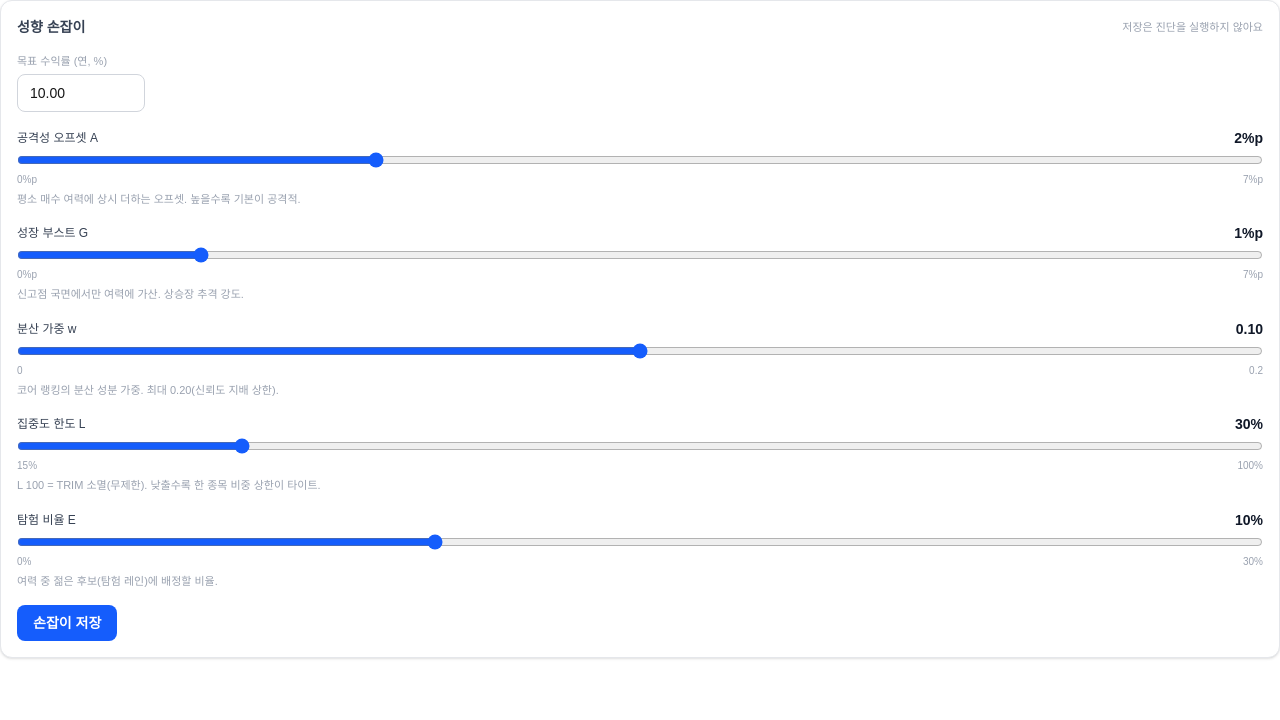
Test: KnobsPanel 저장 플로우 › 저장 실패 시 인라인 에러 표시(성공 피드백 없음)
Click the button with test id "knobs-save-button". click: click(67, 623)
box: [17,605,117,641]
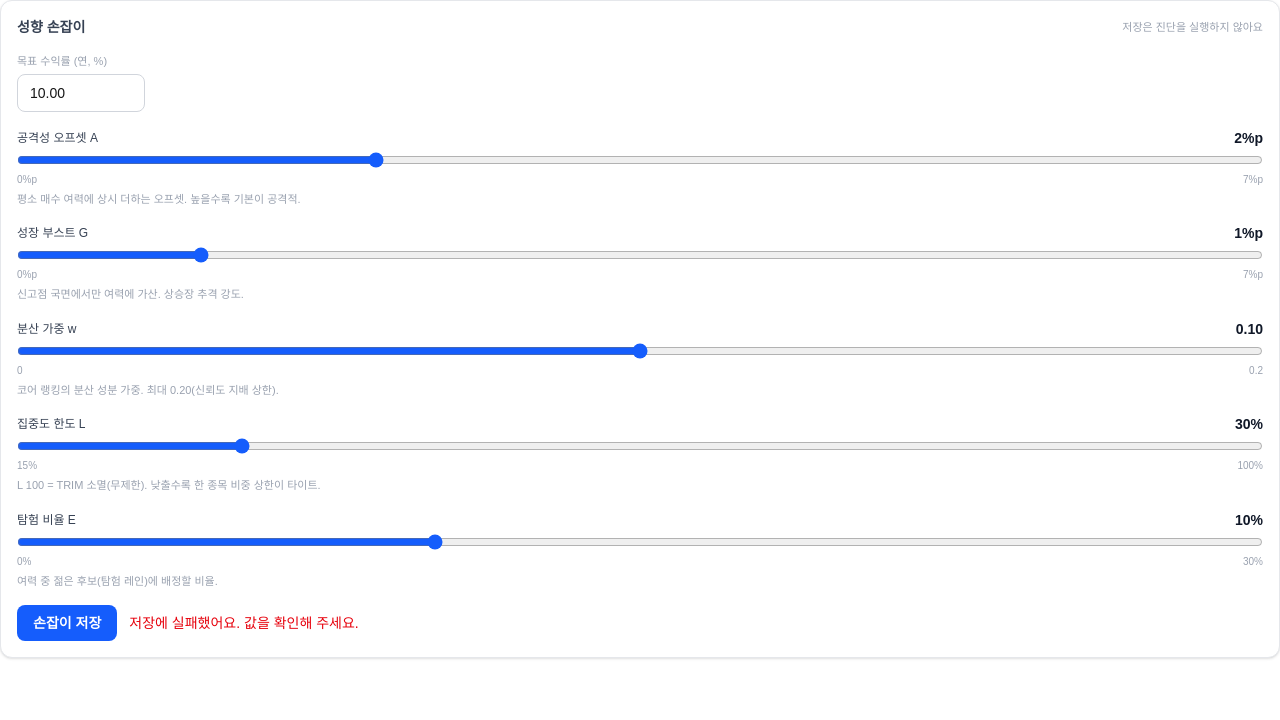
Result: the message "저장에 실패했어요. 값을 확인해 주세요." is shown at [129,613,359,633]
